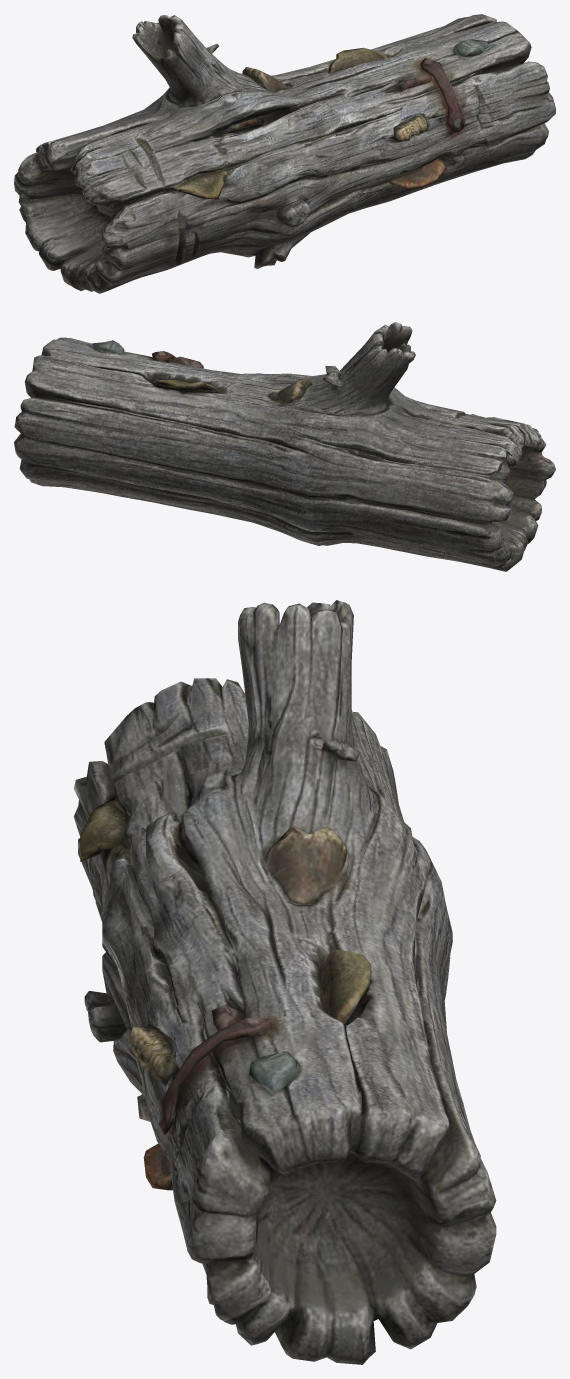
File: sc_driftlog.glb
The picture shows the model from 3 angles, top to bottom: view 1: azimuth 30°, elevation 25°; view 2: azimuth 150°, elevation 25°; view 3: azimuth 270°, elevation 25°; orthographic projection. The views are drawn at different scales.
Visible parts, largest first — view 1: sc_driftlog; view 2: sc_driftlog; view 3: sc_driftlog.
Boxes of the visible parts, x1,y1,x2,y2 form: sc_driftlog: (14,14,555,293); sc_driftlog: (14,322,555,571); sc_driftlog: (73,600,496,1364).
Size of the model in its own units: 3 by 1.41 by 1.13.
Materials: 1 (1 with a texture image).
